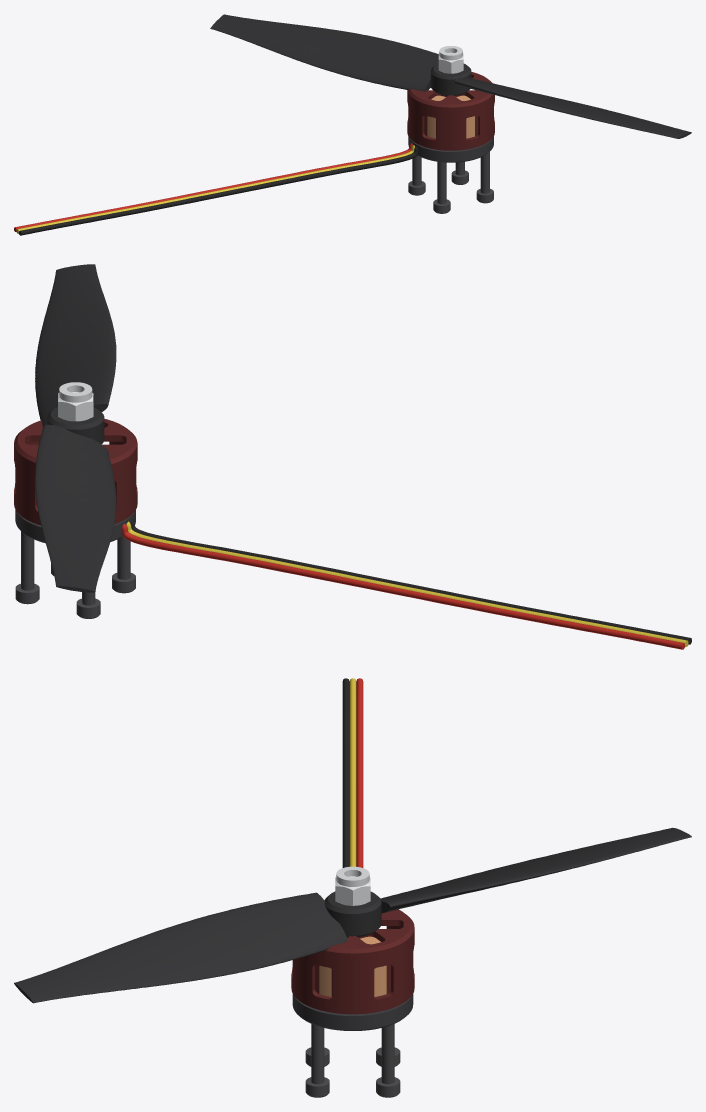
File: motor-and-prop.glb
The picture shows the model from 3 angles, top to bottom: view 1: azimuth 30°, elevation 25°; view 2: azimuth 150°, elevation 25°; view 3: azimuth 270°, elevation 25°; orthographic projection. The views are drawn at different scales.
Parts seen in each view (by area): view 1: motor-and-prop; view 2: motor-and-prop; view 3: motor-and-prop.
Boxes of the visible parts, x1,y1,x2,y2 form: motor-and-prop: (14, 14, 691, 235); motor-and-prop: (14, 264, 691, 649); motor-and-prop: (14, 678, 691, 1097).
Size of the model in its own units: 207 by 51.32 by 154.
